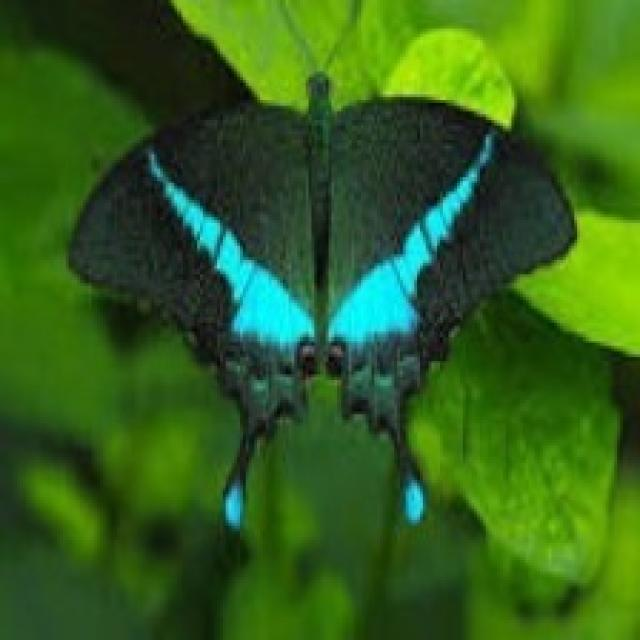butterfly: (63, 69, 577, 540)
